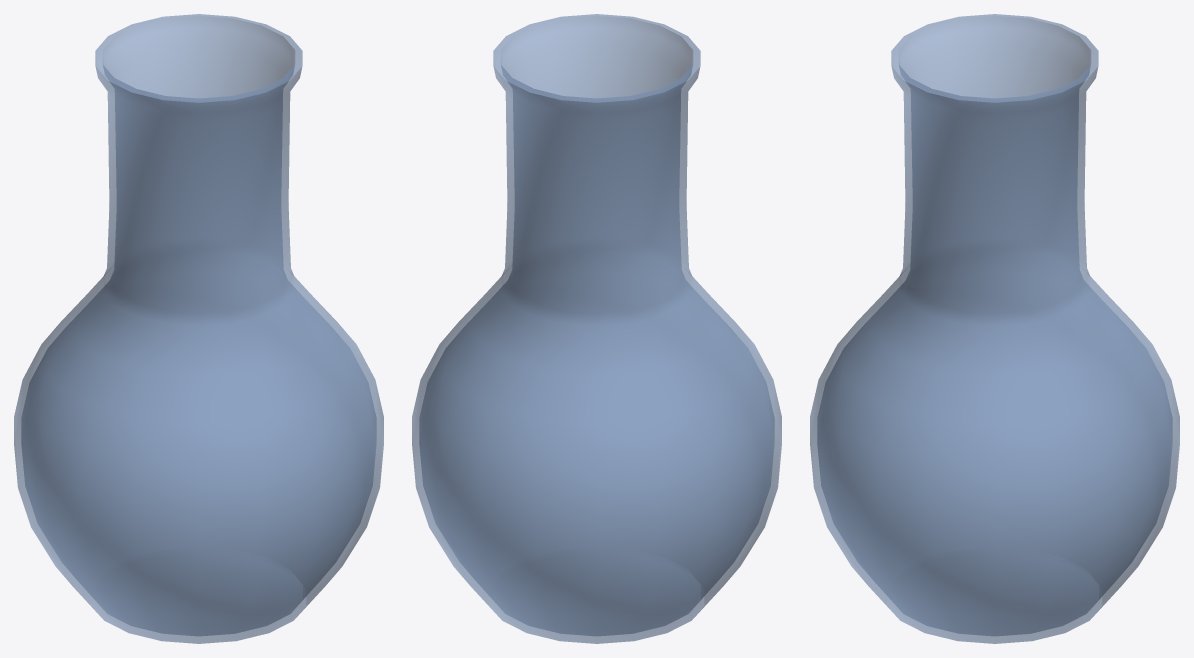
The model's file is banka_2.fbx.
3 views of the same model, side by side, from view 1: azimuth 30°, elevation 25°; view 2: azimuth 150°, elevation 25°; view 3: azimuth 270°, elevation 25° (orthographic).
Parts seen in each view (by area): view 1: banka_2; view 2: banka_2; view 3: banka_2.
Boxes of the visible parts, <box> form: banka_2: <box>14,14,383,643</box>; banka_2: <box>412,14,781,643</box>; banka_2: <box>810,14,1179,643</box>.
Size of the model in its own units: 12.5 by 19.88 by 12.31.
